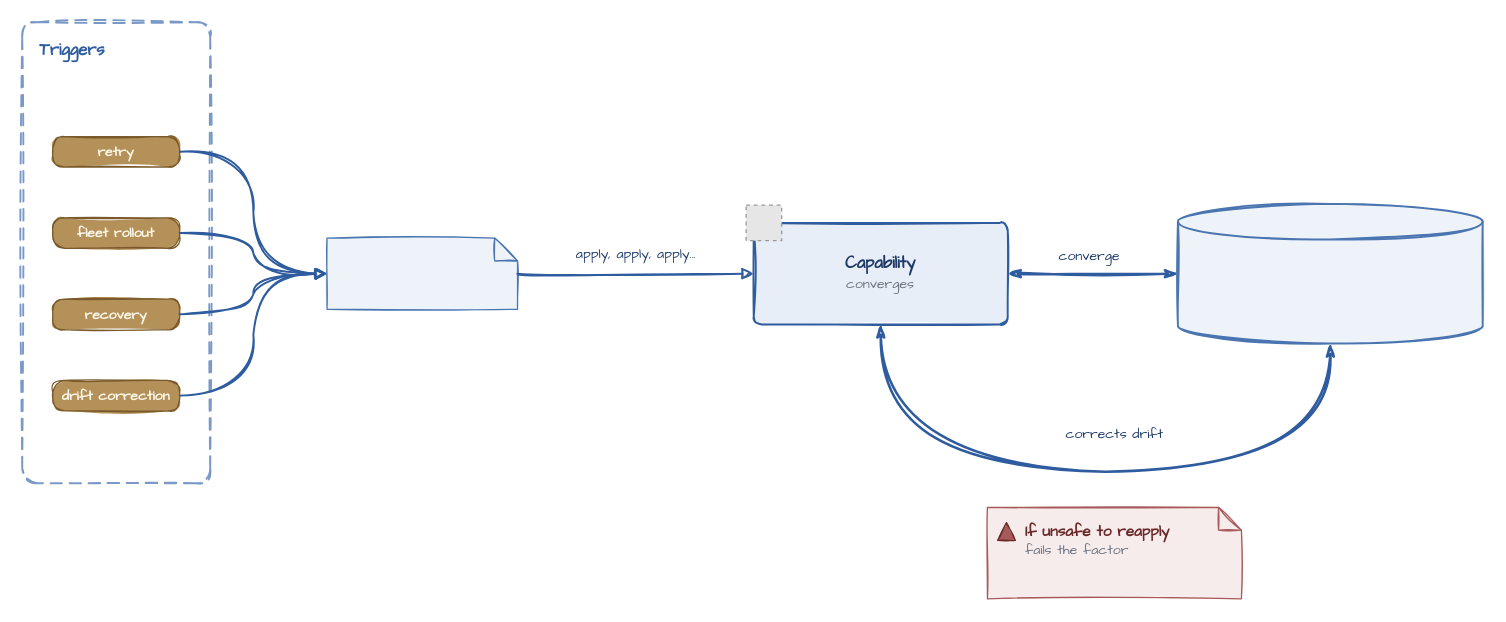
Some shapes in this 1506 by 622 pixel diagram are drawn without their labels. Grey dashed boxes stand in for pictures. Here are the shapes that lost their labels. From the top down, the centre of each, then its label:
At point 422,273: "Same desired state applied repeatedly".
At point 1329,273: "Same intended result no side effects".
